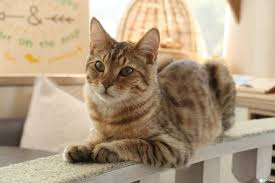cat: (78, 15, 171, 107)
